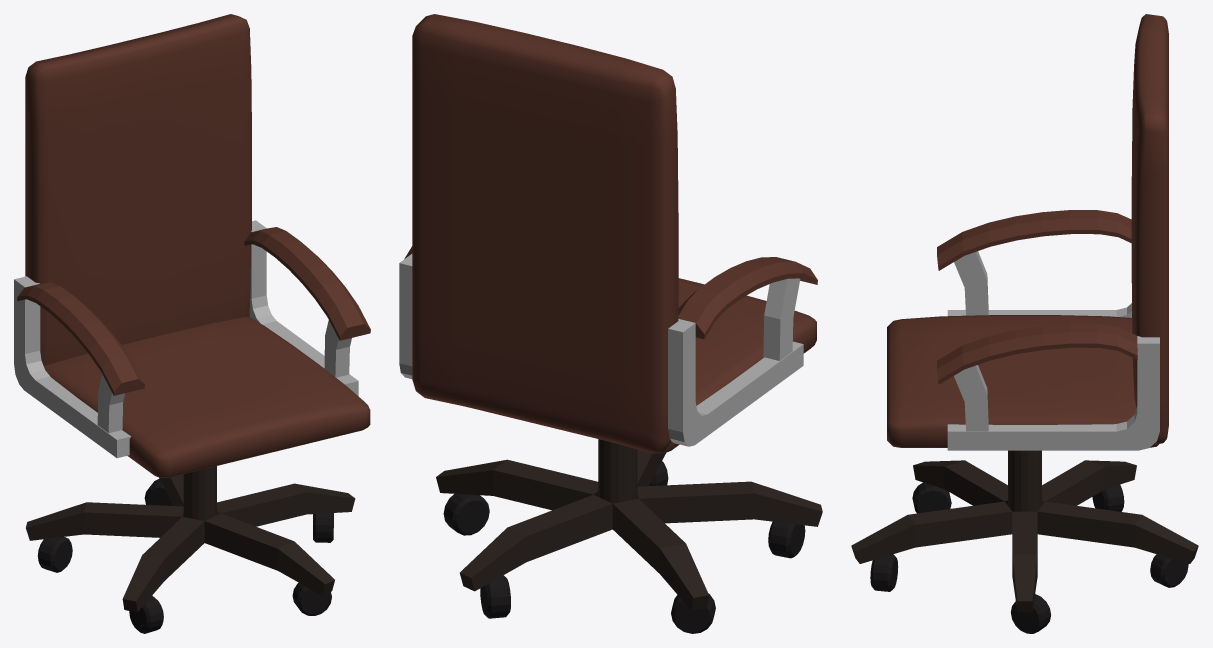
File: Prop_OfficeChair_02.fbx
The picture shows the model from 3 angles, left to right: view 1: azimuth 30°, elevation 25°; view 2: azimuth 150°, elevation 25°; view 3: azimuth 270°, elevation 25°; orthographic projection. The views are drawn at different scales.
Visible parts, largest first — view 1: Prop_OfficeChair_02; view 2: Prop_OfficeChair_02; view 3: Prop_OfficeChair_02.
Part boxes in pixels (bbox=[...]): Prop_OfficeChair_02: bbox=[14, 14, 370, 633]; Prop_OfficeChair_02: bbox=[399, 14, 822, 633]; Prop_OfficeChair_02: bbox=[851, 14, 1198, 633].
Bounding box in the file's own units: 63.56 × 106 × 66.32.
